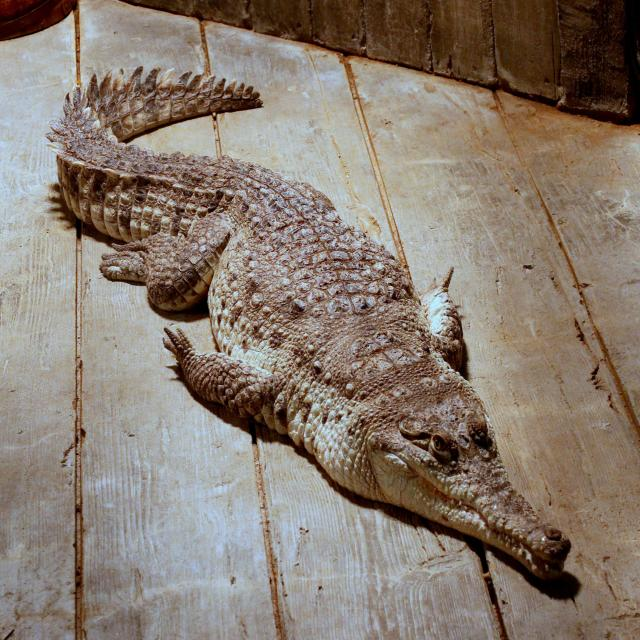crocodile: (40, 63, 583, 586)
